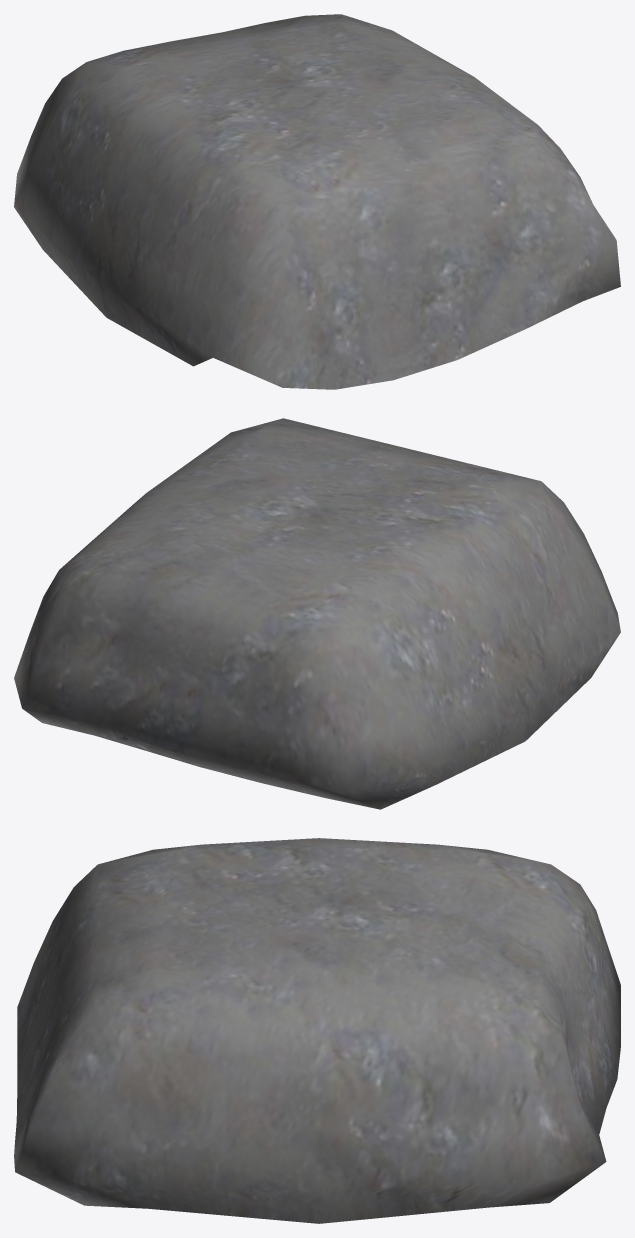
Rendered from SM_Sun_Kak_stone_A.fbx.
3 views of the same model, one above another, from view 1: azimuth 30°, elevation 25°; view 2: azimuth 150°, elevation 25°; view 3: azimuth 270°, elevation 25° (orthographic). The views are drawn at different scales.
Parts seen in each view (by area): view 1: SM_Sun_Kak_stone_A; view 2: SM_Sun_Kak_stone_A; view 3: SM_Sun_Kak_stone_A.
Part boxes in pixels (left/top/right/bottom): SM_Sun_Kak_stone_A: left=14, top=14, right=620, bottom=389; SM_Sun_Kak_stone_A: left=14, top=418, right=620, bottom=809; SM_Sun_Kak_stone_A: left=14, top=838, right=620, bottom=1223.
Bounding box in the file's own units: 81.64 × 34.72 × 90.91.
